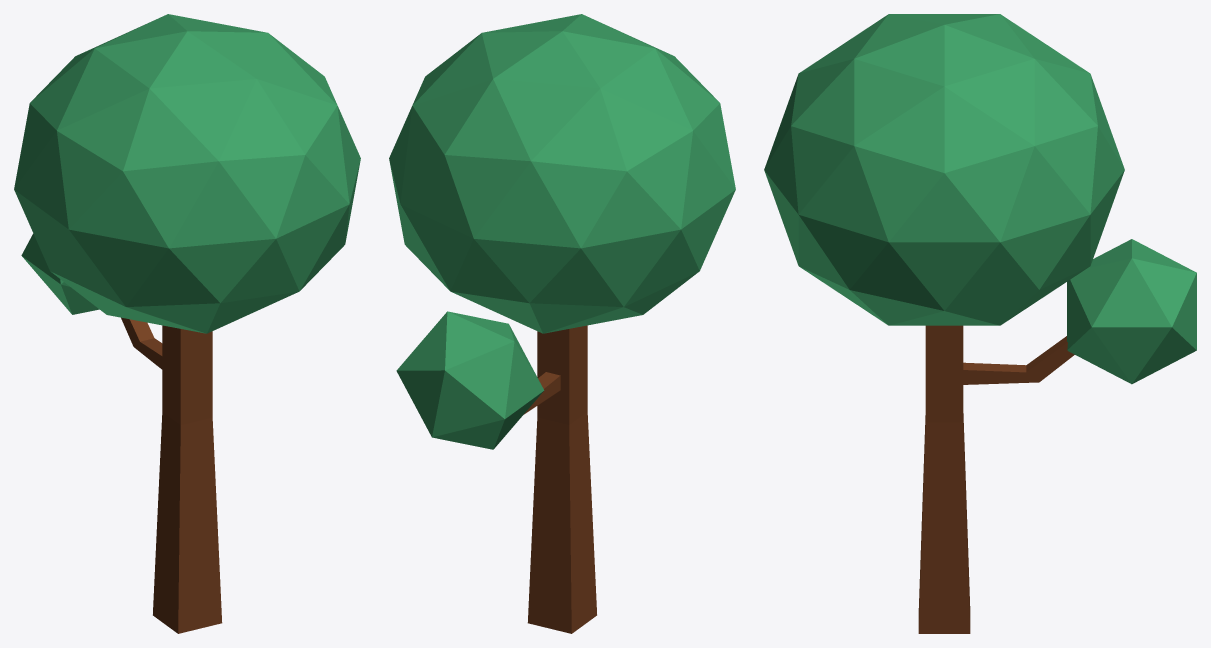
The model's file is arvore1.fbx.
3 views of the same model, side by side, from view 1: azimuth 30°, elevation 25°; view 2: azimuth 150°, elevation 25°; view 3: azimuth 270°, elevation 25° (orthographic).
Visible parts, largest first — view 1: Icosphere, Cube, Icosphere.001, Cube.001; view 2: Icosphere, Cube, Icosphere.001, Cube.001; view 3: Icosphere, Icosphere.001, Cube, Cube.001.
Part boxes in pixels (left/top/right/bottom): Icosphere: left=14, top=14, right=360, bottom=333; Cube: left=153, top=325, right=222, bottom=633; Icosphere.001: left=21, top=233, right=99, bottom=314; Cube.001: left=121, top=317, right=162, bottom=369; Icosphere: left=389, top=14, right=735, bottom=333; Cube: left=527, top=325, right=596, bottom=633; Icosphere.001: left=396, top=311, right=544, bottom=449; Cube.001: left=524, top=372, right=560, bottom=414; Icosphere: left=764, top=14, right=1124, bottom=325; Icosphere.001: left=1067, top=239, right=1196, bottom=384; Cube: left=918, top=325, right=970, bottom=633; Cube.001: left=963, top=336, right=1074, bottom=384.
Bounding box in the file's own units: 449 × 864 × 567.
